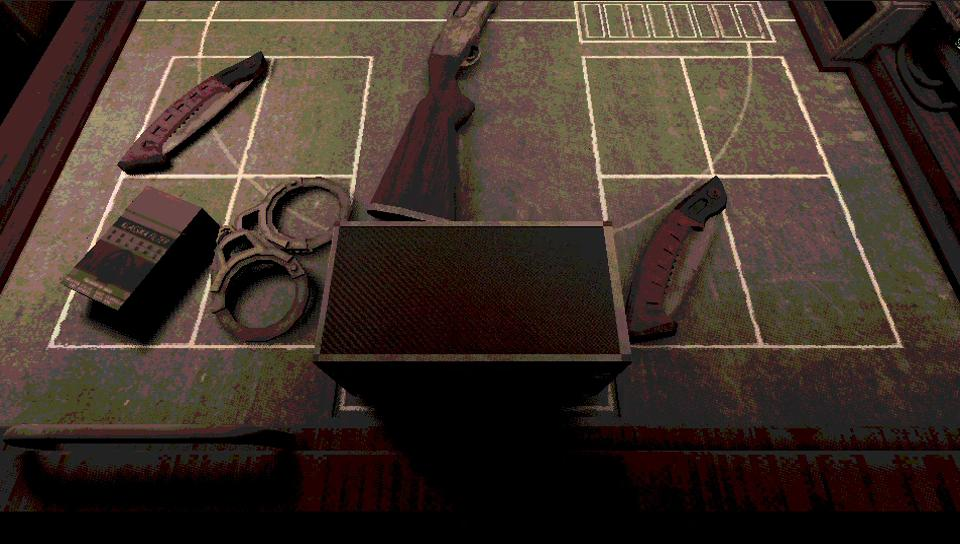ally: (0, 19, 959, 446)
cigar: (64, 187, 200, 310)
doubledamage: (119, 52, 268, 173), (626, 177, 726, 334)
emptyspace: (719, 173, 904, 348), (689, 54, 829, 174), (239, 56, 371, 176), (584, 56, 712, 174)
gun: (374, 0, 497, 219)
handcuff: (210, 179, 340, 341)
inventorybox: (316, 220, 624, 361)
